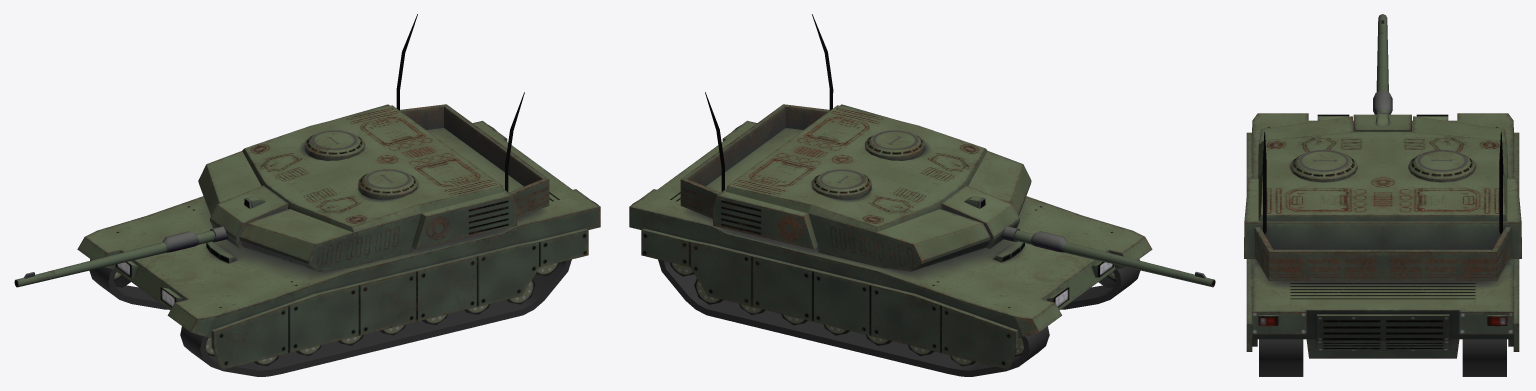
3 views of the same model, side by side, from view 1: azimuth 30°, elevation 25°; view 2: azimuth 150°, elevation 25°; view 3: azimuth 270°, elevation 25° (orthographic). The views are drawn at different scales.
Visible parts, largest first — view 1: SM_AltayTank_01; view 2: SM_AltayTank_01; view 3: SM_AltayTank_01.
Part boxes in pixels (<box>): SM_AltayTank_01: <box>14,14,600,376</box>; SM_AltayTank_01: <box>629,14,1215,376</box>; SM_AltayTank_01: <box>1244,14,1521,376</box>.
Bounding box in the file's own units: 9.92 × 3.95 × 4.07.
1 material, 1 textured.
